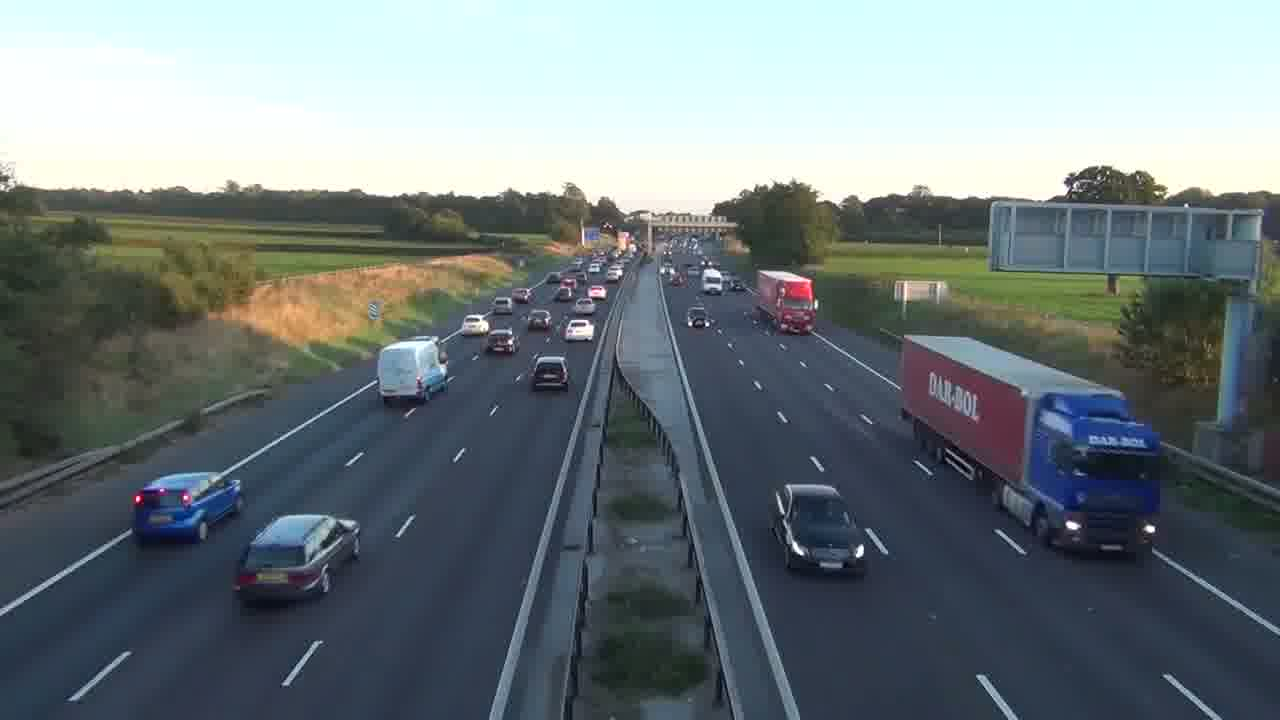car: (233, 512, 362, 603), (769, 482, 867, 576), (131, 471, 244, 544), (529, 353, 569, 390), (484, 329, 519, 355), (563, 319, 595, 342), (526, 309, 552, 332), (686, 307, 708, 328)
truck: (897, 333, 1163, 563), (376, 336, 451, 404), (755, 270, 817, 335), (702, 269, 724, 295)
